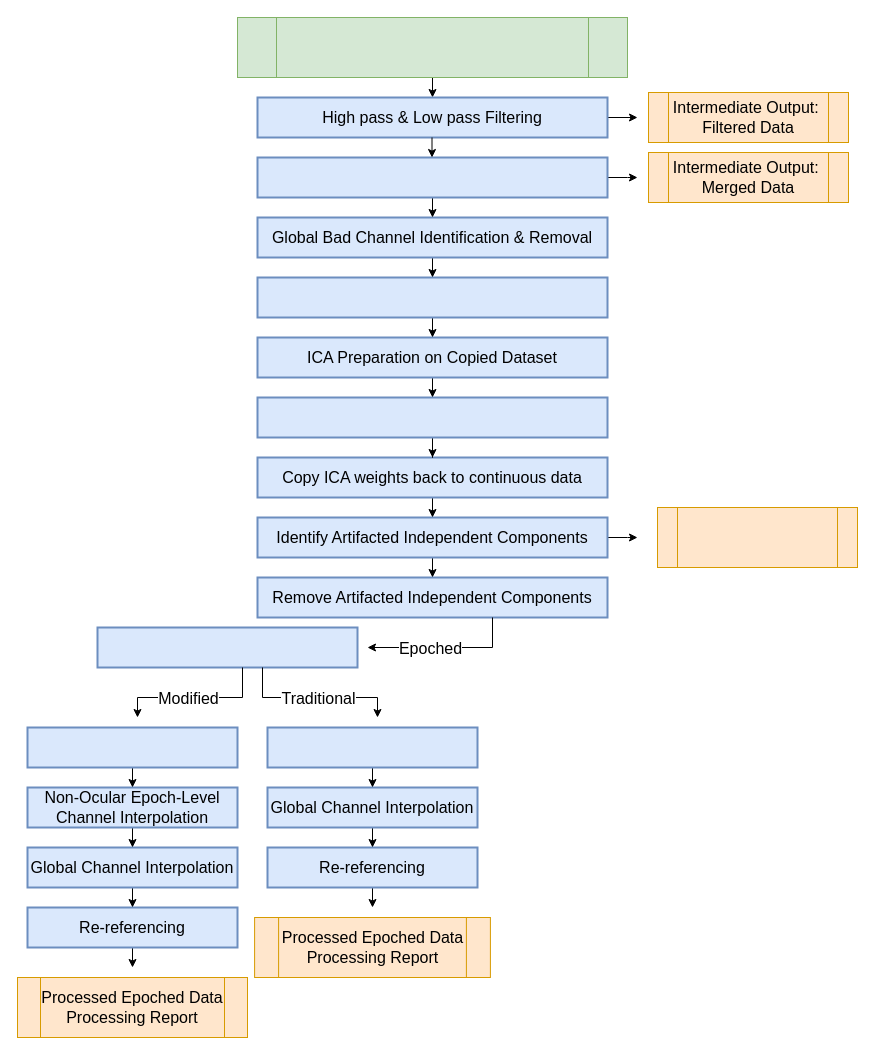
Image size: 875x1055. Some labels were removed from this diagram. The shapes that lost their labels are listed below. From the top down, each one's centre as x and y in pixels, then its label:
(432,47): Raw EEG Data: Event-Related or Resting
(432,177): Merge EEG Files Together
(432,297): Make a Copy of Dataset
(432,417): ICA on Copied Dataset
(757,537): Intermediate Output: ICA Data
(227,647): Epoch Data Optional: Baseline Correction
(132,747): Epoch-Level Ocular Voltage Threshold Rejection
(372,747): Traditional Epoch-Level Voltage Threshold Rejection
